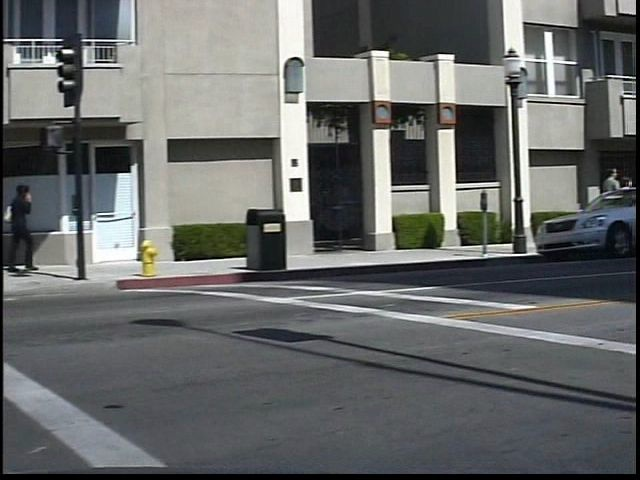person: (14, 178, 61, 279), (605, 164, 630, 240)
